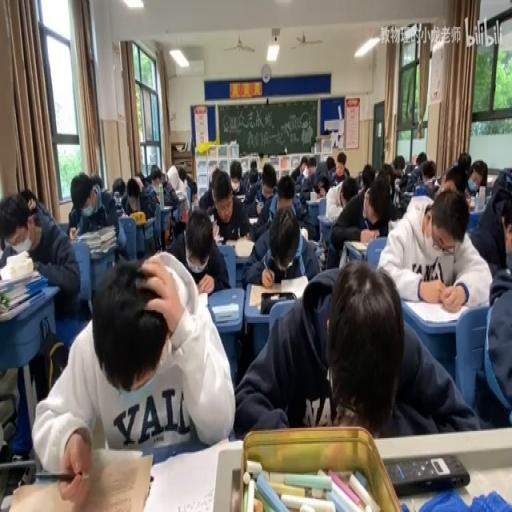calculator: (402, 294, 469, 326), (246, 278, 306, 308), (0, 266, 39, 292), (221, 236, 253, 256), (210, 300, 238, 322), (316, 211, 334, 243), (346, 239, 368, 252), (338, 243, 348, 266), (197, 290, 207, 307), (387, 219, 399, 233), (212, 219, 220, 240), (306, 239, 318, 250), (234, 192, 246, 202), (159, 203, 172, 212), (174, 189, 185, 199), (400, 191, 413, 199), (300, 226, 307, 239), (248, 216, 258, 225), (144, 216, 154, 225), (118, 210, 129, 218), (305, 198, 319, 204), (215, 236, 224, 243), (294, 191, 300, 199)
paper: (33, 249, 230, 501), (234, 258, 475, 440), (378, 184, 492, 308), (2, 189, 80, 322), (240, 196, 318, 286), (327, 171, 397, 266), (474, 258, 511, 426), (166, 205, 228, 294), (69, 169, 123, 256), (146, 162, 180, 240), (401, 154, 437, 199), (196, 165, 226, 212), (306, 158, 335, 199), (242, 159, 262, 205), (491, 168, 512, 208), (179, 165, 197, 208), (227, 158, 245, 199), (330, 152, 349, 185), (276, 173, 294, 205), (469, 158, 486, 188), (18, 188, 38, 213), (360, 162, 375, 192), (110, 176, 126, 202), (440, 178, 462, 196), (382, 164, 396, 192), (341, 182, 357, 206), (501, 215, 511, 253), (126, 183, 140, 205), (457, 152, 470, 174), (262, 168, 275, 189), (396, 172, 410, 189), (90, 172, 102, 191), (298, 155, 308, 174), (134, 171, 146, 186), (394, 154, 404, 172), (290, 165, 300, 183), (414, 150, 426, 164), (248, 158, 258, 171), (405, 162, 414, 175), (160, 175, 166, 186)
person: (386, 452, 470, 494)
